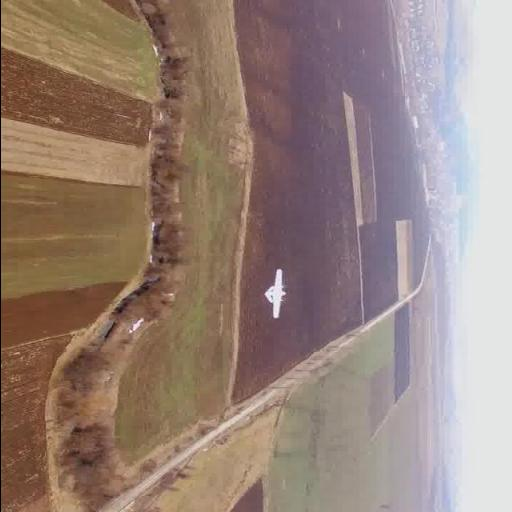uav: (256, 268, 290, 322)
